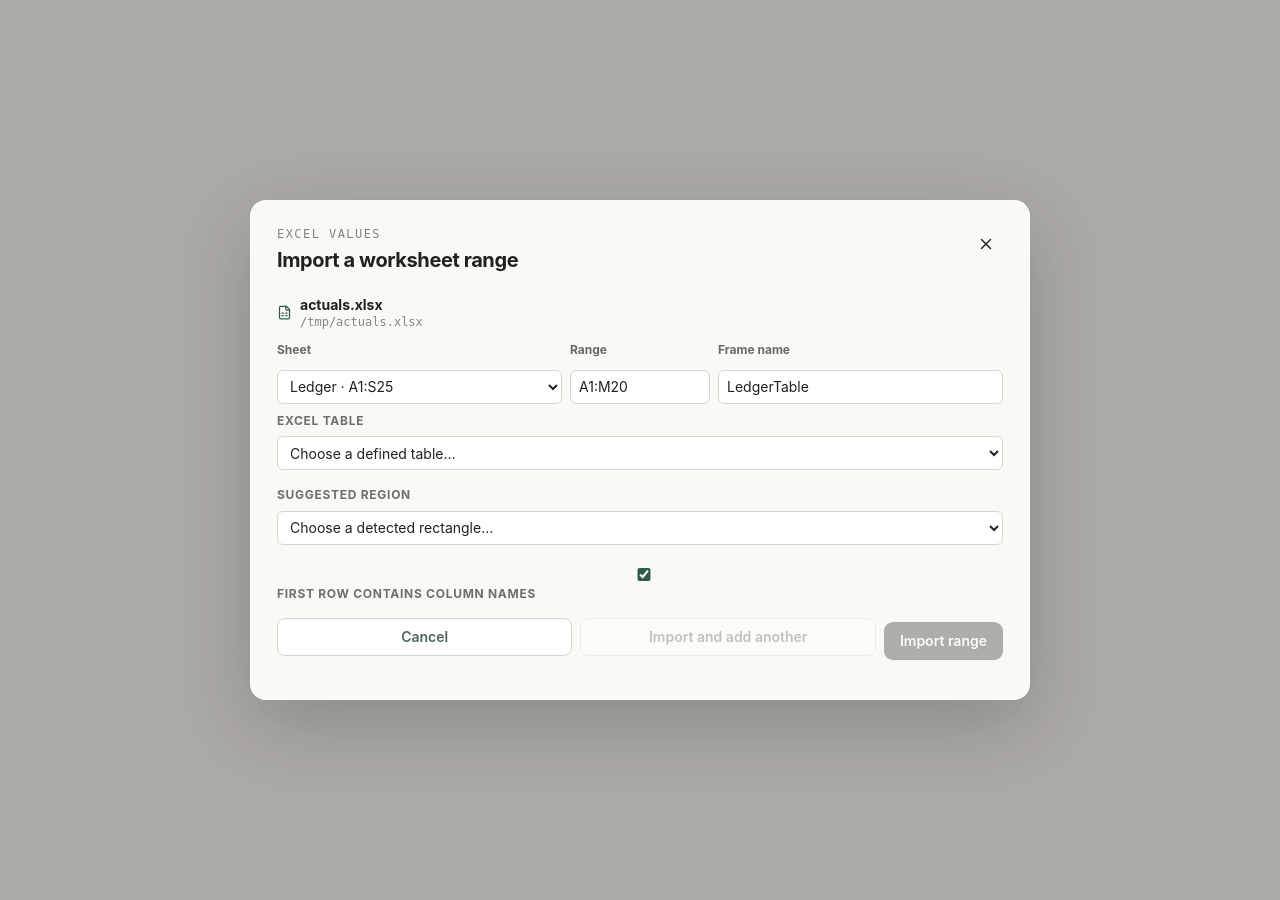
Test: ExcelImportDialog › offers a detected loose rectangle without treating it as an Excel table
Select "P15:S25 · 11 rows × 4 columns" in the dropdown labelled "Suggested region": (640, 528) [277,510,1003,544]
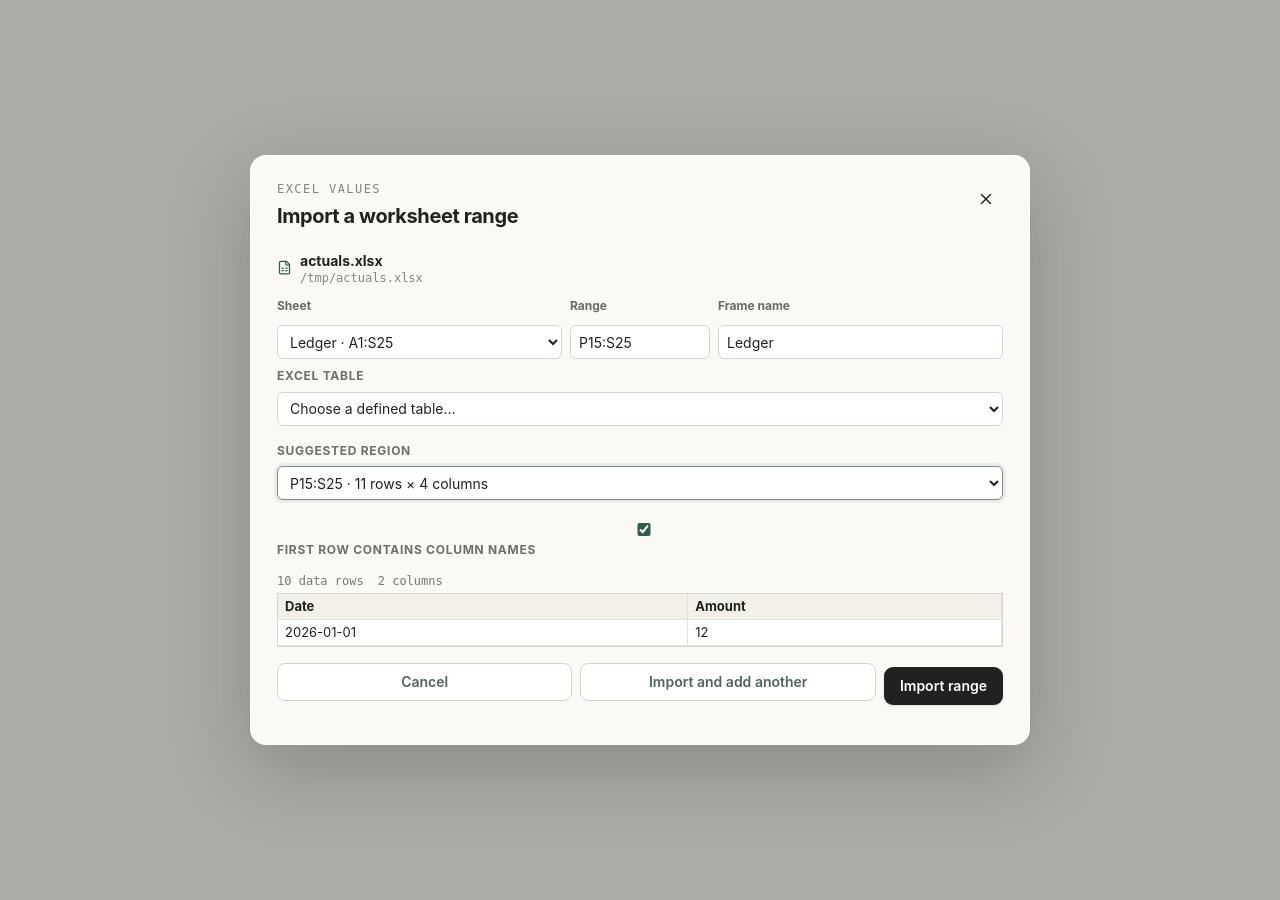
Check: the text "2026-01-01" is shown, box [278,619,688,645]
